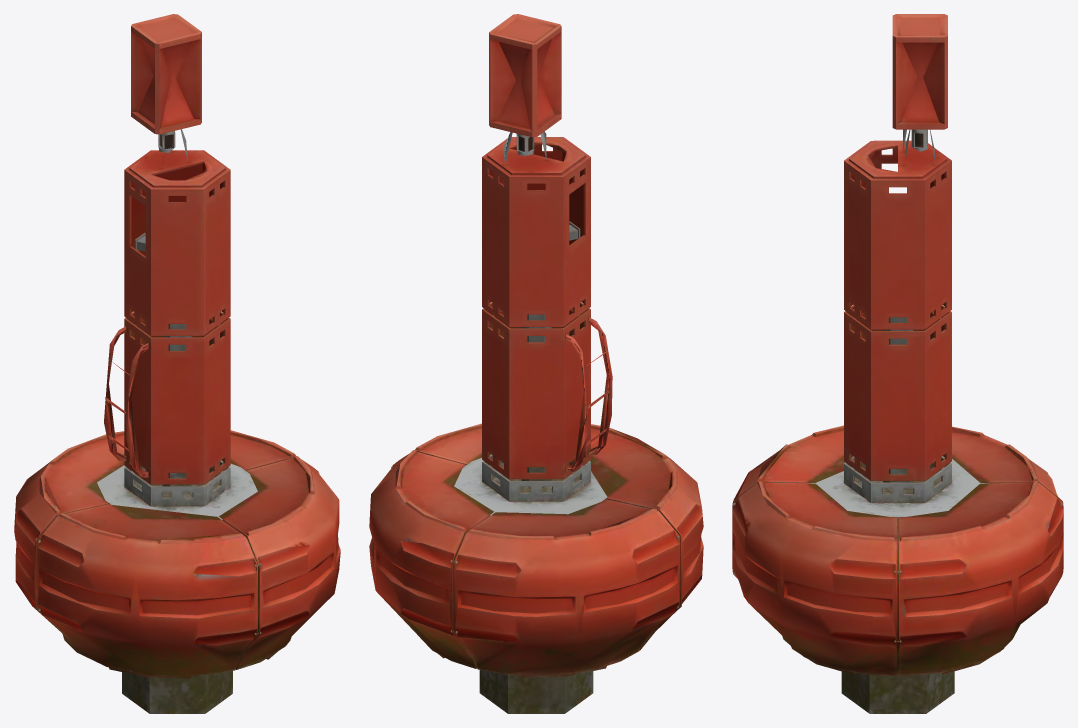
The model's file is lateral_sea_marker.glb.
3 renders of one model, left to right at view 1: azimuth 30°, elevation 25°; view 2: azimuth 150°, elevation 25°; view 3: azimuth 270°, elevation 25°, orthographic. The views are drawn at different scales.
Parts seen in each view (by area): view 1: lateral_sea_marker; view 2: lateral_sea_marker; view 3: lateral_sea_marker.
Boxes of the visible parts, x1,y1,x2,y2 form: lateral_sea_marker: [14, 14, 340, 713]; lateral_sea_marker: [369, 14, 703, 713]; lateral_sea_marker: [732, 14, 1063, 713].
Size of the model in its own units: 3 by 6.83 by 3.
1 material, 1 textured.
